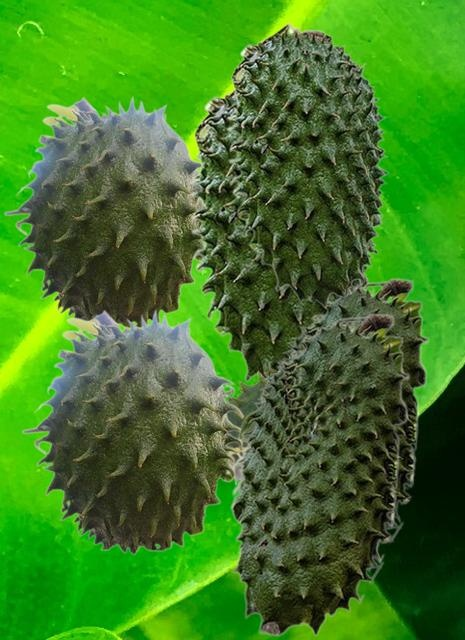guyabano: (229, 312, 409, 636), (21, 307, 244, 555), (188, 88, 376, 382), (260, 277, 428, 573), (226, 21, 389, 307), (3, 94, 203, 326), (226, 359, 280, 484)
